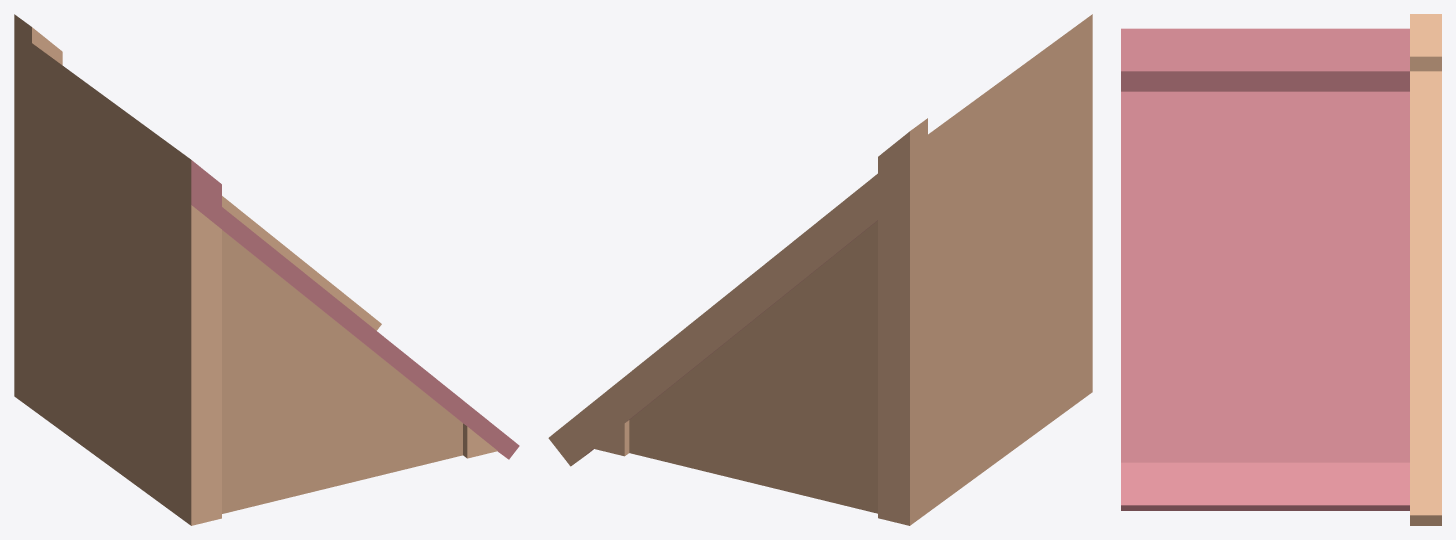
File: roofHighRight.glb
The picture shows the model from 3 angles, left to right: view 1: azimuth 30°, elevation 25°; view 2: azimuth 150°, elevation 25°; view 3: azimuth 270°, elevation 25°; orthographic projection. The views are drawn at different scales.
Parts seen in each view (by area): view 1: roofHighRight; view 2: roofHighRight; view 3: roofHighRight.
Part boxes in pixels (x1,y1,x2,y2): roofHighRight: (14, 14, 519, 525); roofHighRight: (548, 14, 1092, 525); roofHighRight: (1121, 14, 1441, 525).
Size of the model in its own units: 1.14 by 1.26 by 1.
